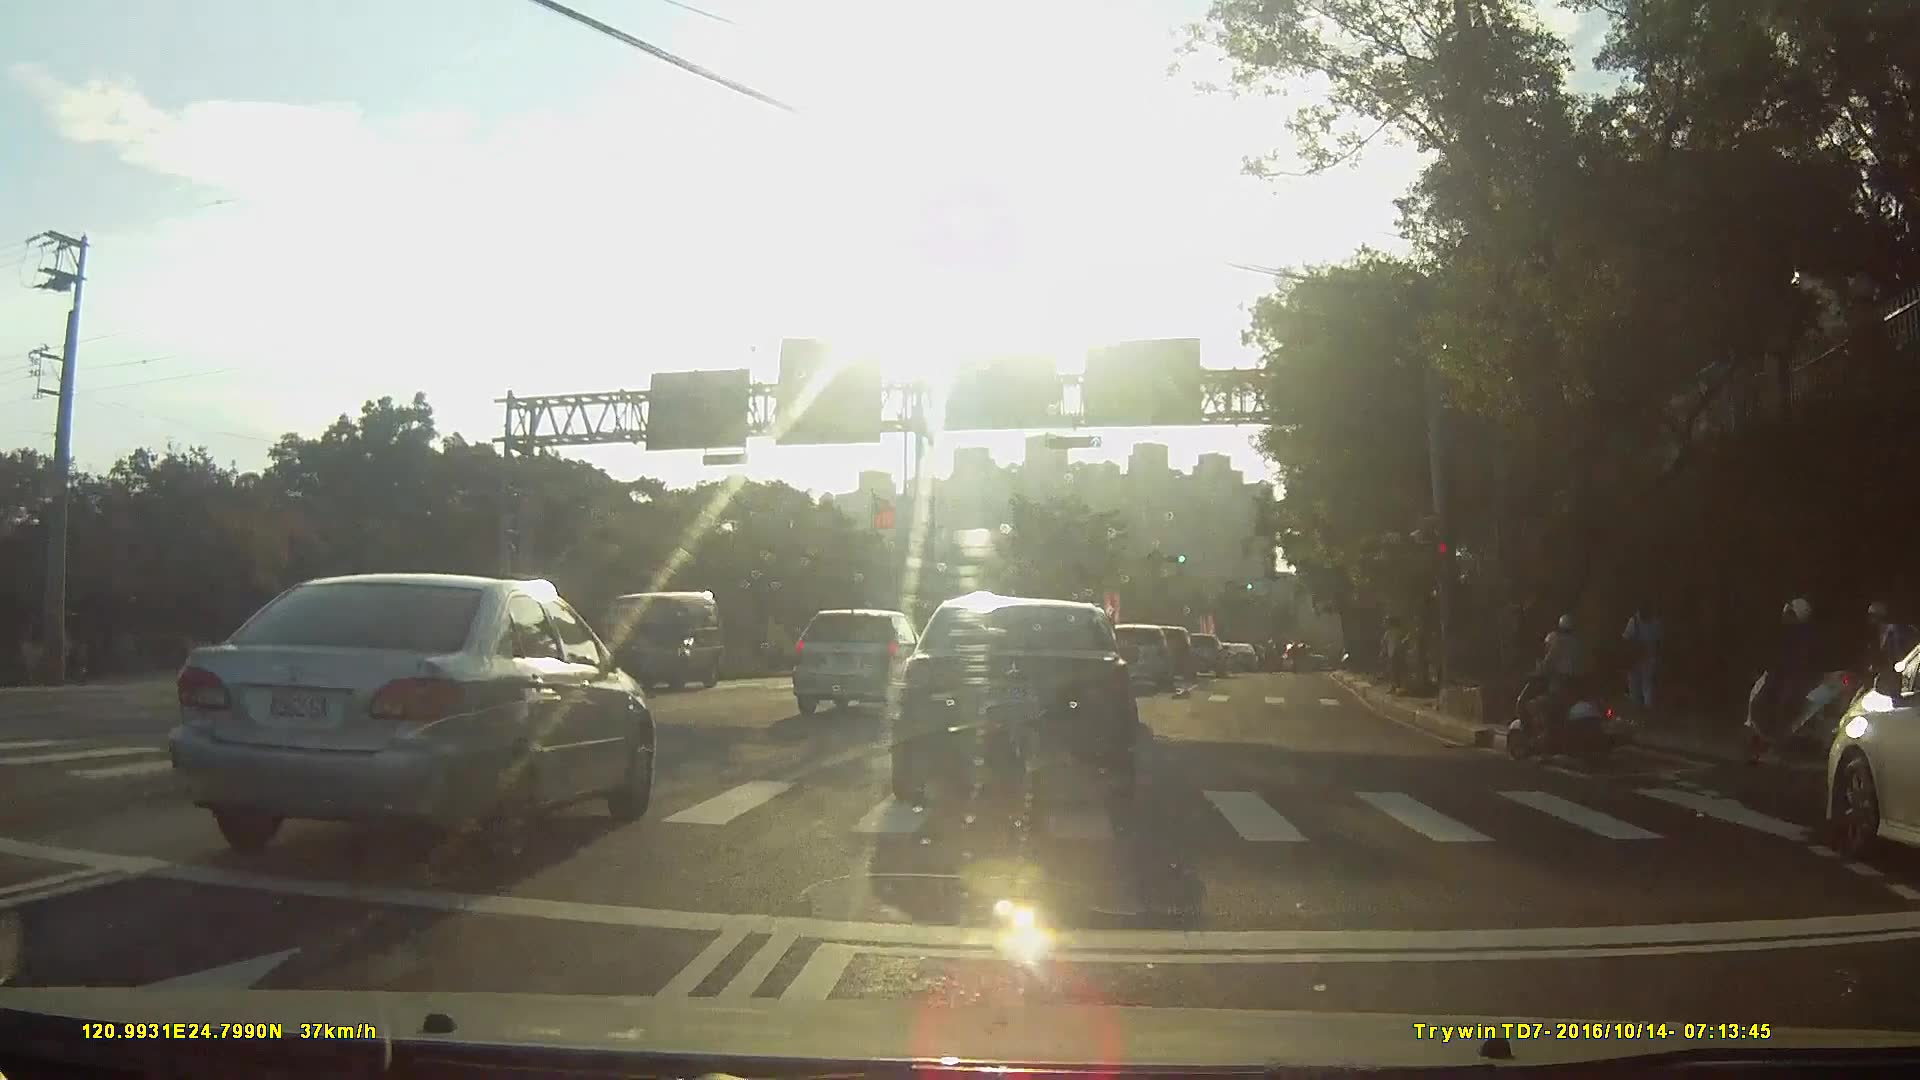pedestrian: (1613, 591, 1662, 729)
rider: (1511, 615, 1635, 772), (1752, 597, 1869, 765)
vehicle: (155, 572, 660, 871), (887, 593, 1136, 811), (1801, 636, 1920, 880), (584, 587, 731, 698), (793, 604, 938, 715), (1100, 624, 1174, 694), (1139, 625, 1201, 683), (1174, 633, 1224, 678), (1222, 643, 1258, 672)
